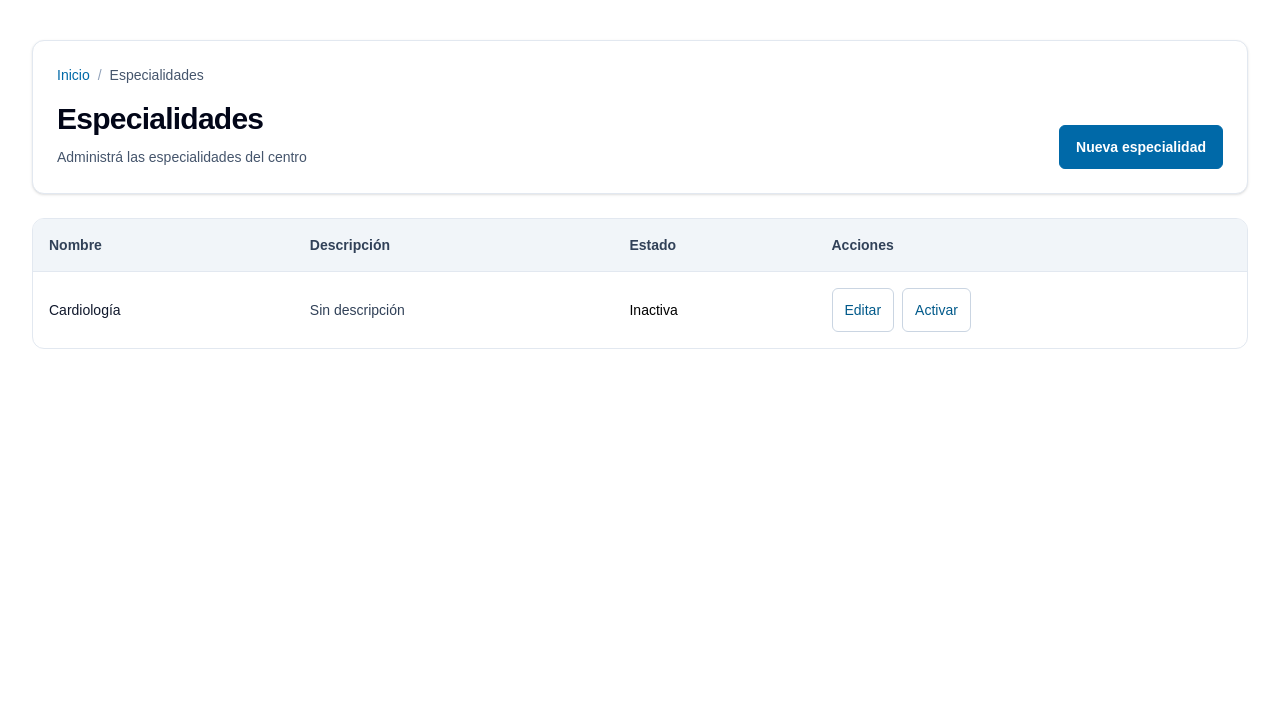
Test: SpecialtiesScreen › offers activation for inactive rows
This screenshot has width=1280, height=720.
Step 1. Click the button "Activar" → (936, 310), box [902,288,971,332]
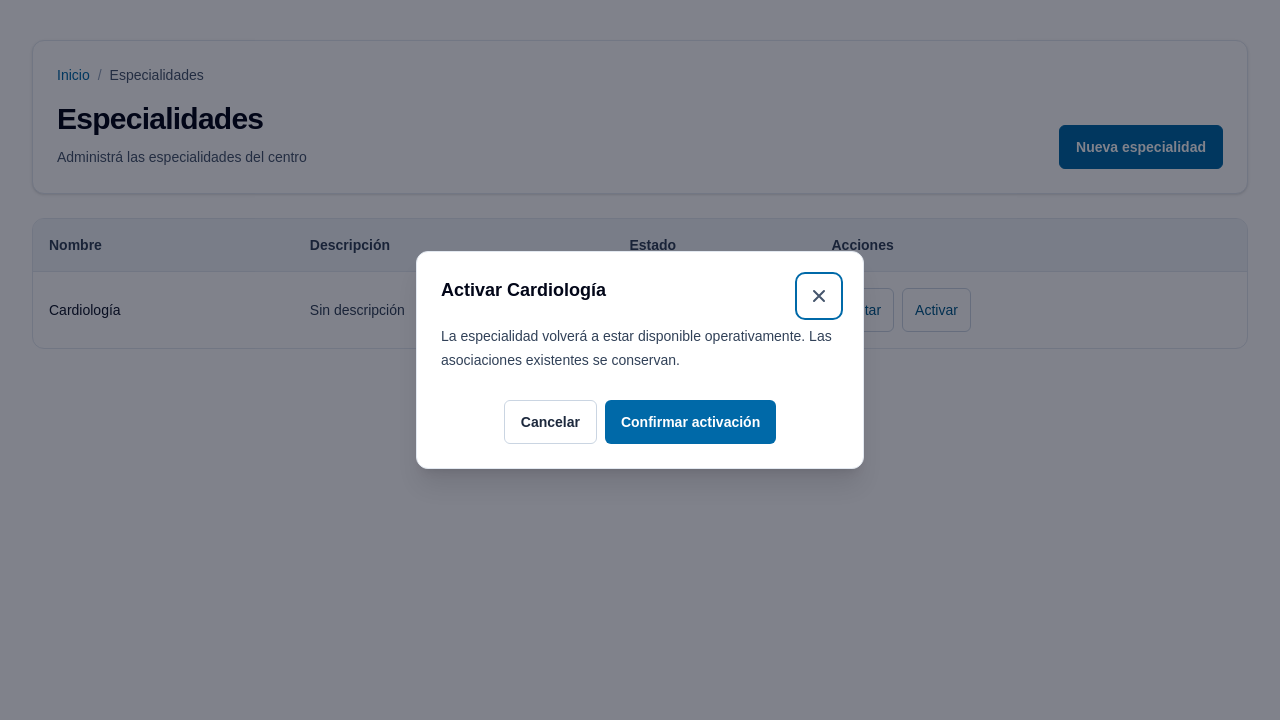
Expected: the button "Confirmar activación" is shown, [605,400,776,444]
